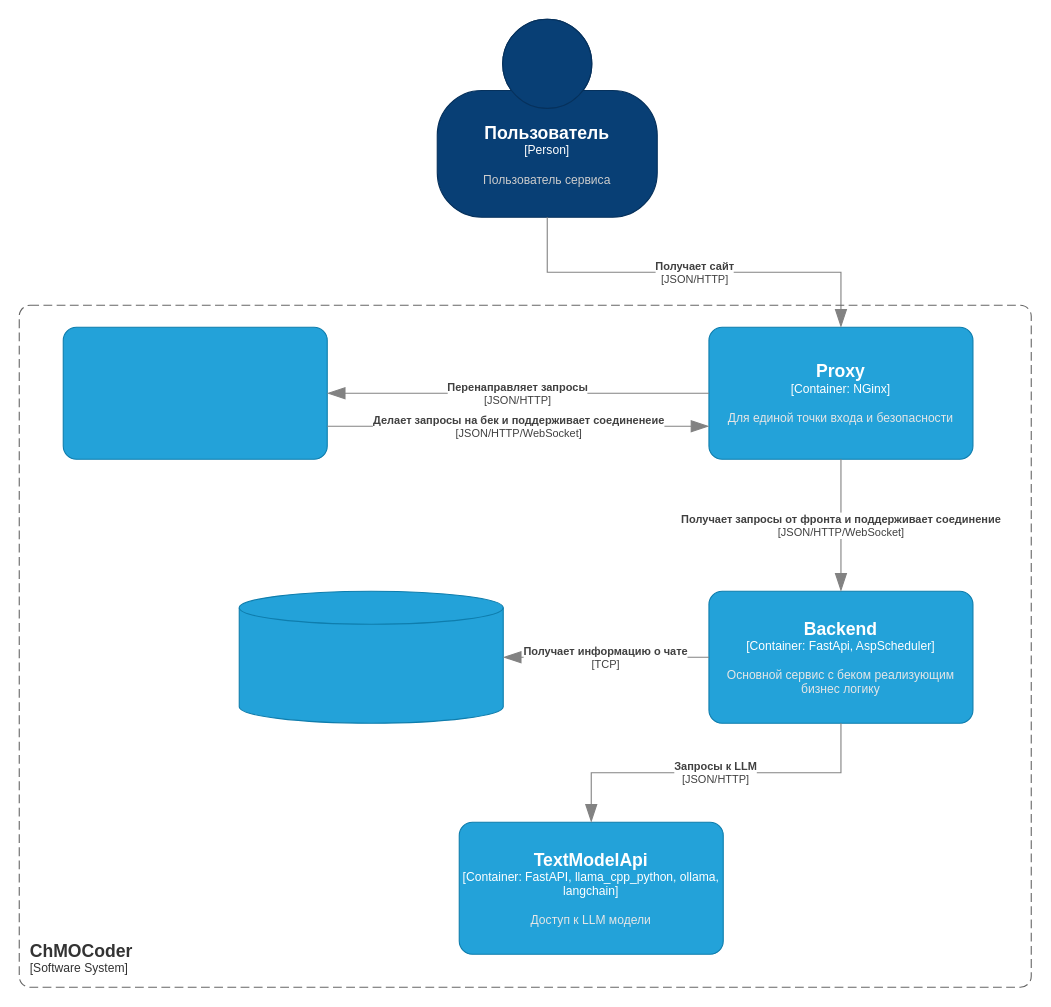
This 1051x1007 diagram has some shape labels left out. Each missing label, with the box of its shape:
Frontend [Container: React] Интерактивный онлайн чат: (62, 326, 327, 459)
Redis [Container: Redis Database] Хранит данные по чатам: (238, 590, 503, 723)
